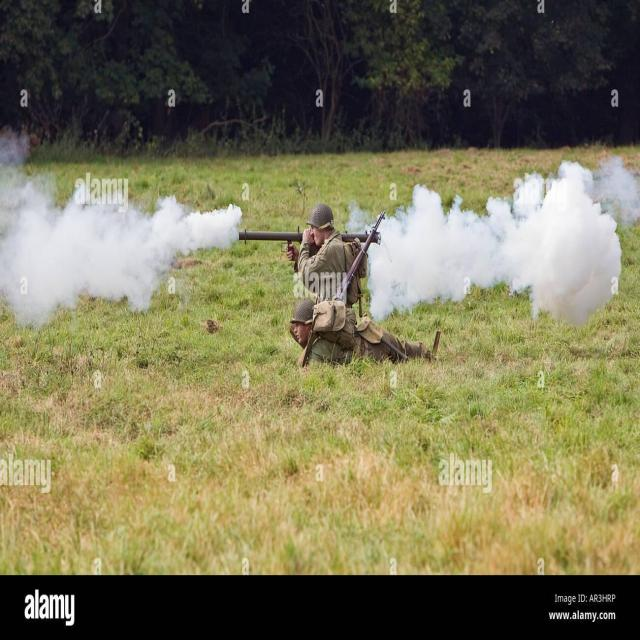bazooka: (234, 225, 389, 251)
